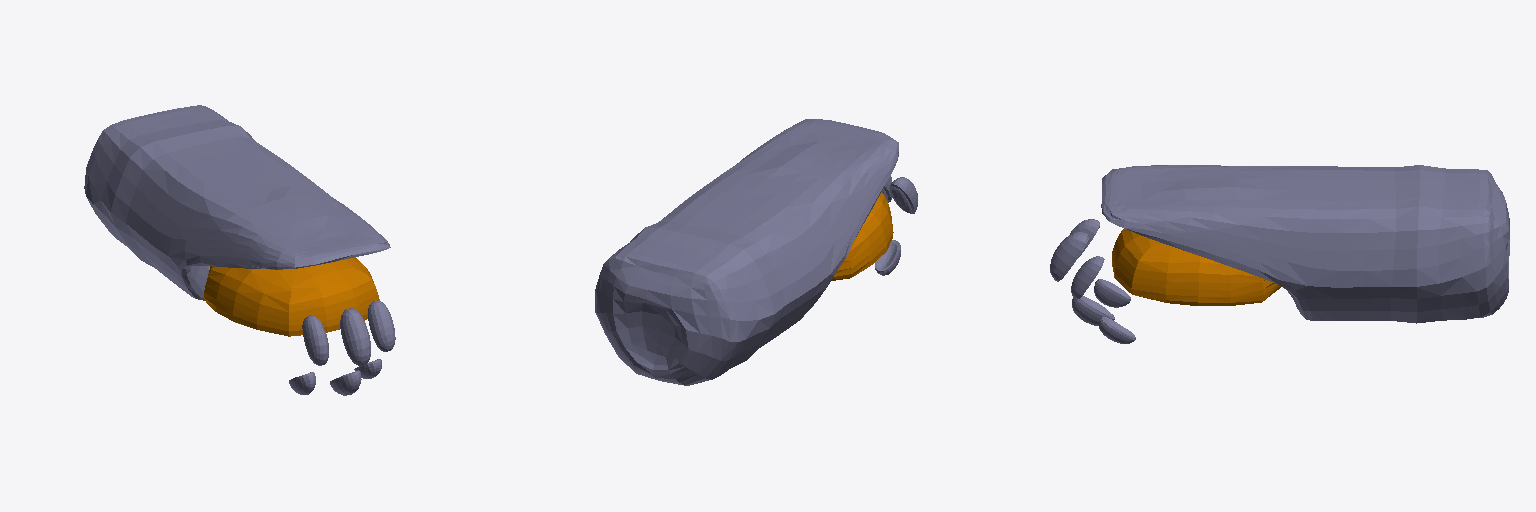
File: robot_arm_orange.obj
3 views of the same model, side by side, from view 1: azimuth 30°, elevation 25°; view 2: azimuth 150°, elevation 25°; view 3: azimuth 270°, elevation 25° (orthographic).
Parts seen in each view (by area): view 1: arm; view 2: arm; view 3: arm.
Boxes of the visible parts, <box> form: arm: <box>84,105,395,395</box>; arm: <box>595,119,917,385</box>; arm: <box>1050,165,1509,343</box>.
Size of the model in its own units: 4.51 by 4.09 by 11.79.